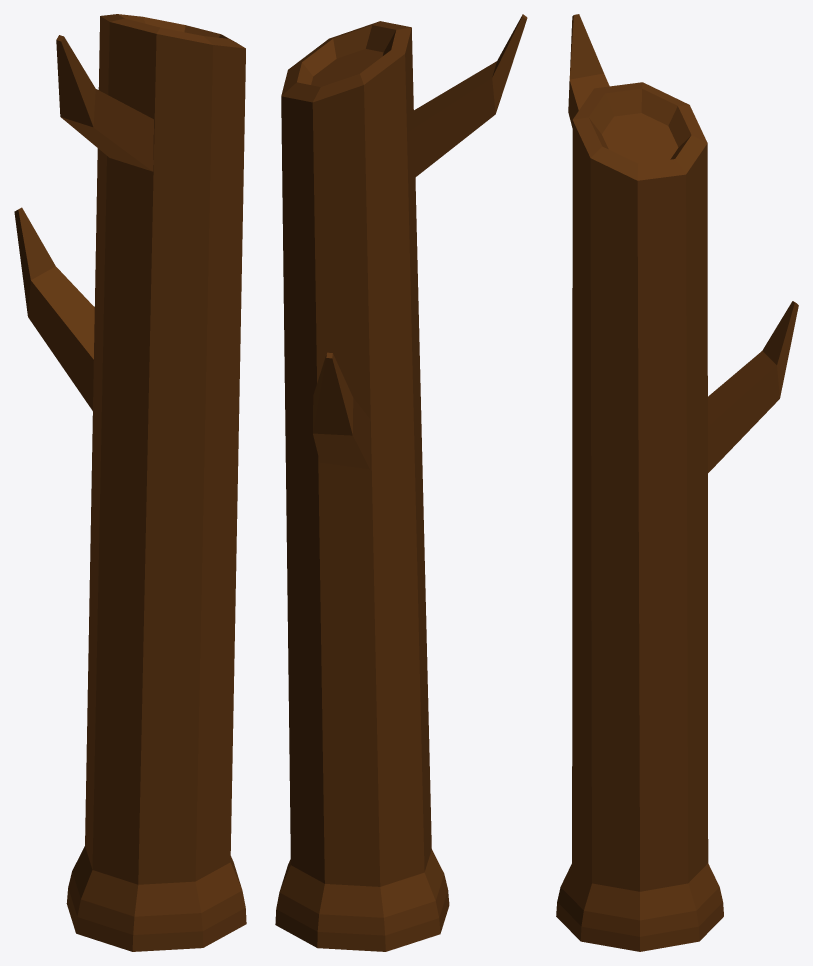
Rendered from SM_TreeCut.fbx.
3 renders of one model, left to right at view 1: azimuth 30°, elevation 25°; view 2: azimuth 150°, elevation 25°; view 3: azimuth 270°, elevation 25°, orthographic. The views are drawn at different scales.
Parts seen in each view (by area): view 1: Cylinder; view 2: Cylinder; view 3: Cylinder.
Boxes of the visible parts, x1,y1,x2,y2 form: Cylinder: [14, 14, 246, 951]; Cylinder: [275, 14, 527, 951]; Cylinder: [556, 14, 798, 951].
Size of the model in its own units: 24.65 by 26.61 by 102.
